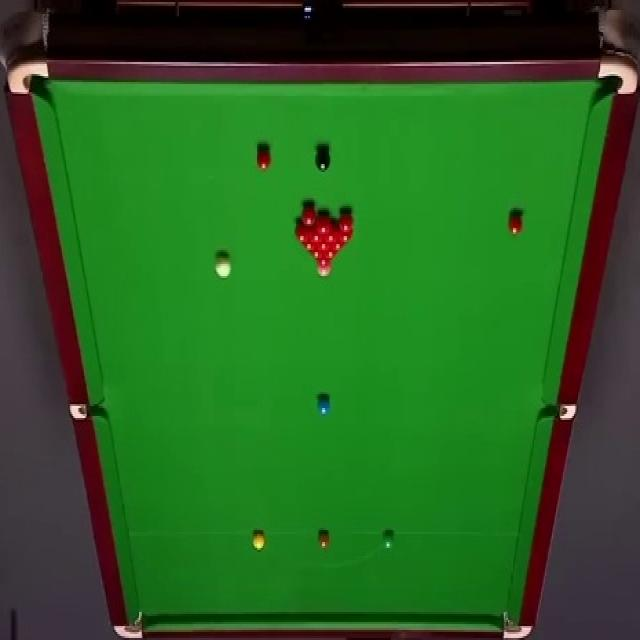black-ball: (314, 147, 331, 173)
blue-ball: (316, 395, 331, 417)
brown-ball: (316, 530, 331, 552)
green-ball: (380, 530, 395, 550)
pink-ball: (316, 264, 332, 278)
red-ball: (255, 147, 272, 171), (508, 210, 524, 235), (293, 224, 311, 244), (302, 205, 318, 227), (316, 214, 332, 234), (339, 210, 353, 232), (326, 223, 339, 242), (311, 228, 325, 244), (340, 225, 352, 243), (331, 242, 347, 251), (315, 258, 332, 266), (317, 242, 333, 250), (308, 250, 324, 258), (303, 242, 317, 251), (323, 250, 338, 258)
white-ball: (215, 254, 231, 282)
yellow-ball: (252, 531, 265, 552)
